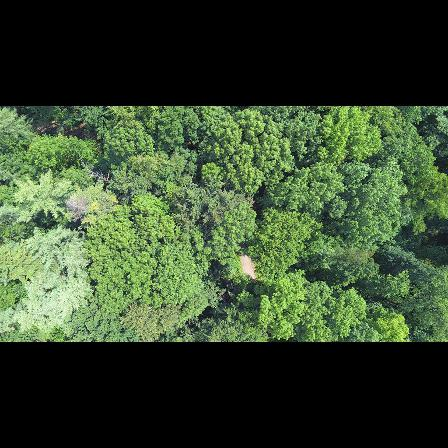Dead: (76, 158, 112, 186), (64, 192, 96, 217)
